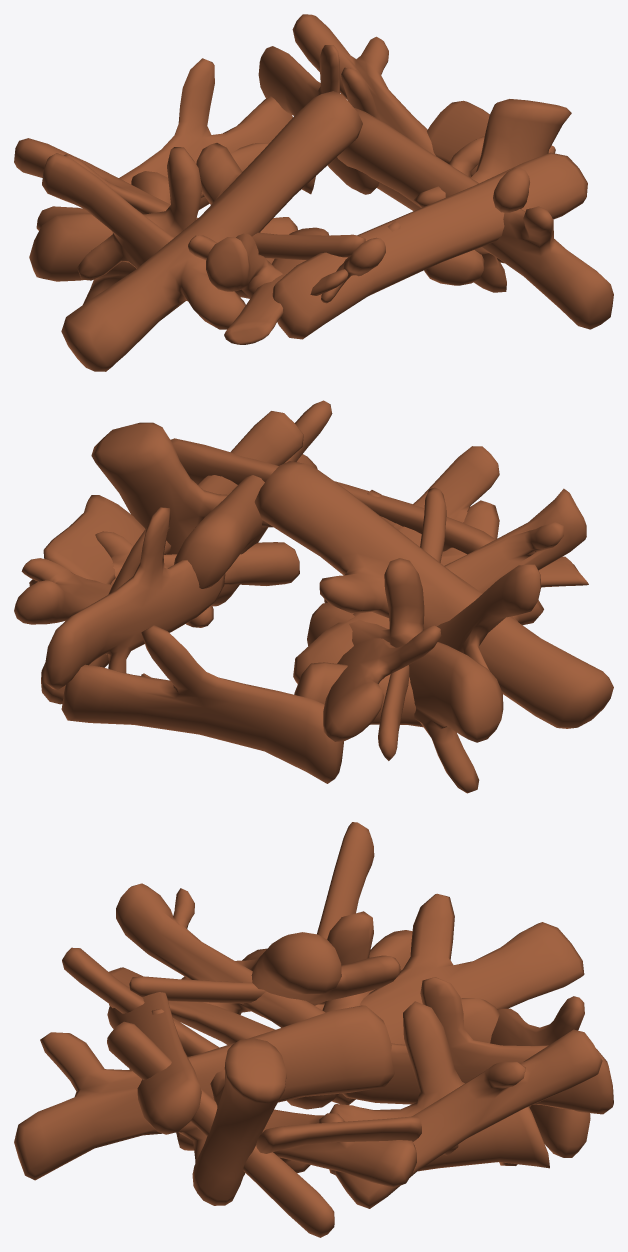
The model's file is ChickenHat.fbx.
3 renders of one model, top to bottom at view 1: azimuth 30°, elevation 25°; view 2: azimuth 150°, elevation 25°; view 3: azimuth 270°, elevation 25°, orthographic. The views are drawn at different scales.
Visible parts, largest first — view 1: Nest; view 2: Nest; view 3: Nest.
Boxes of the visible parts, x1,y1,x2,y2 form: Nest: (14, 14, 613, 371); Nest: (14, 400, 613, 793); Nest: (14, 822, 613, 1237).
Size of the model in its own units: 36.2 by 15.86 by 36.06.
